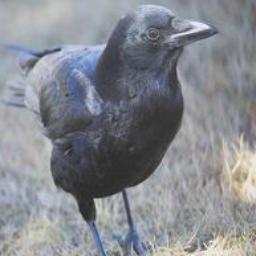Crow: (0, 1, 218, 256)
